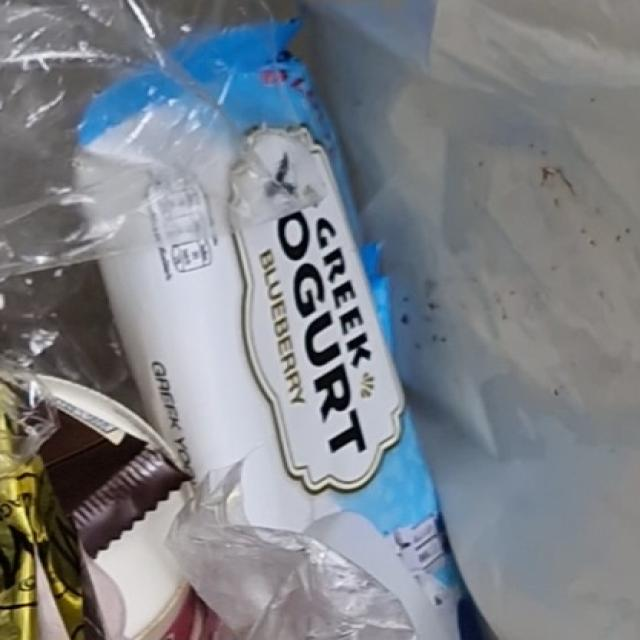plastic bag: (61, 55, 640, 640)
